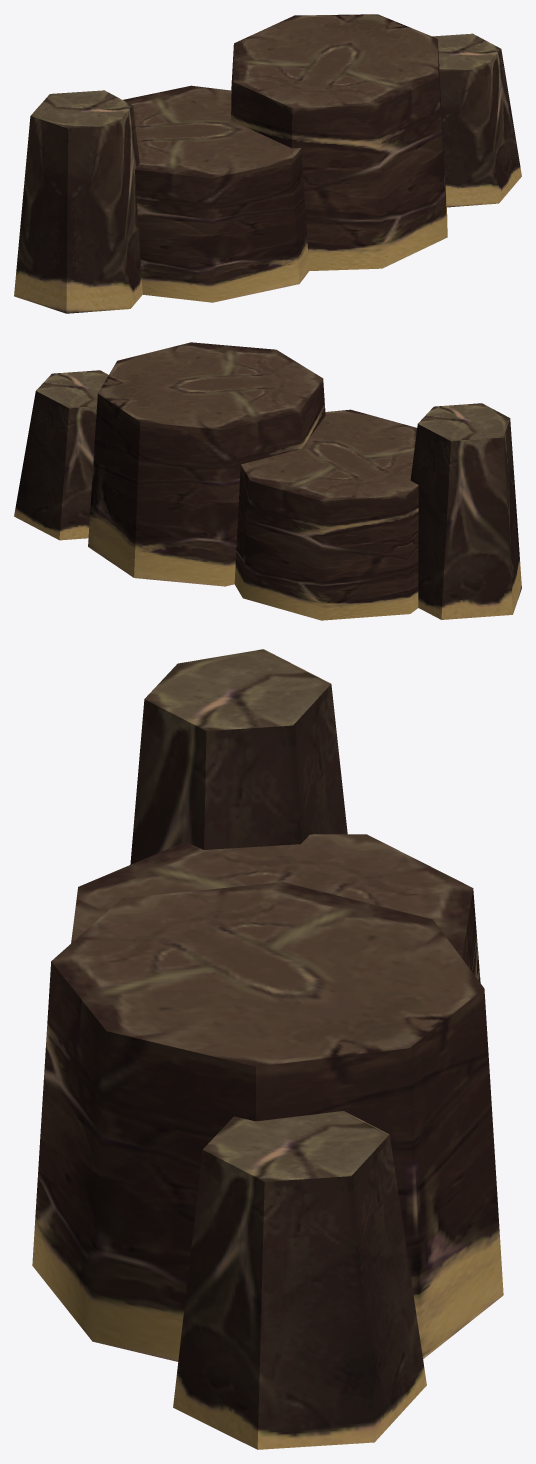
Rendered from common_yewai_shamoshanshi09.FBX.
3 views of the same model, one above another, from view 1: azimuth 30°, elevation 25°; view 2: azimuth 150°, elevation 25°; view 3: azimuth 270°, elevation 25° (orthographic). The views are drawn at different scales.
Parts seen in each view (by area): view 1: common_yewai_shamoshanshi09; view 2: common_yewai_shamoshanshi09; view 3: common_yewai_shamoshanshi09.
Part boxes in pixels (x1,y1,x2,y2): common_yewai_shamoshanshi09: (14, 14, 521, 313); common_yewai_shamoshanshi09: (14, 342, 521, 620); common_yewai_shamoshanshi09: (32, 649, 503, 1449).
Bounding box in the file's own units: 7.01 × 2.97 × 2.39.
